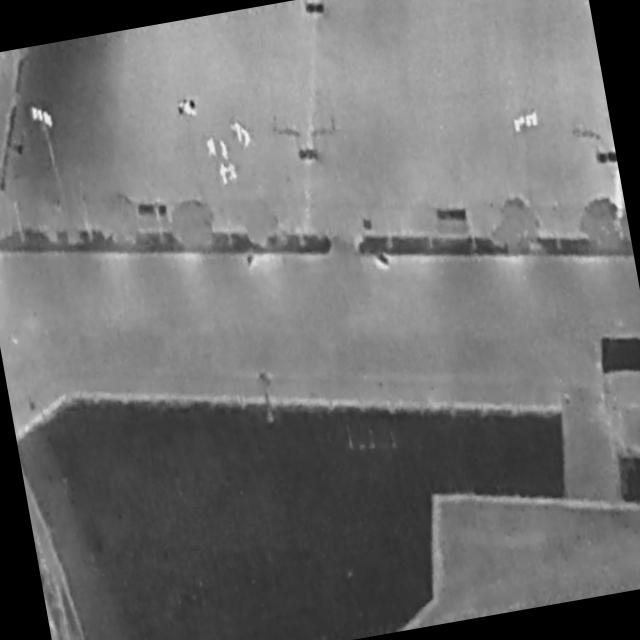person: (231, 118, 245, 143), (219, 161, 231, 186), (241, 124, 253, 149), (219, 137, 230, 162), (206, 136, 218, 158), (228, 161, 240, 183)
